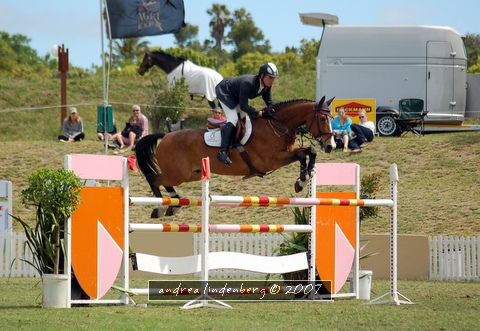person: (217, 62, 281, 167)
